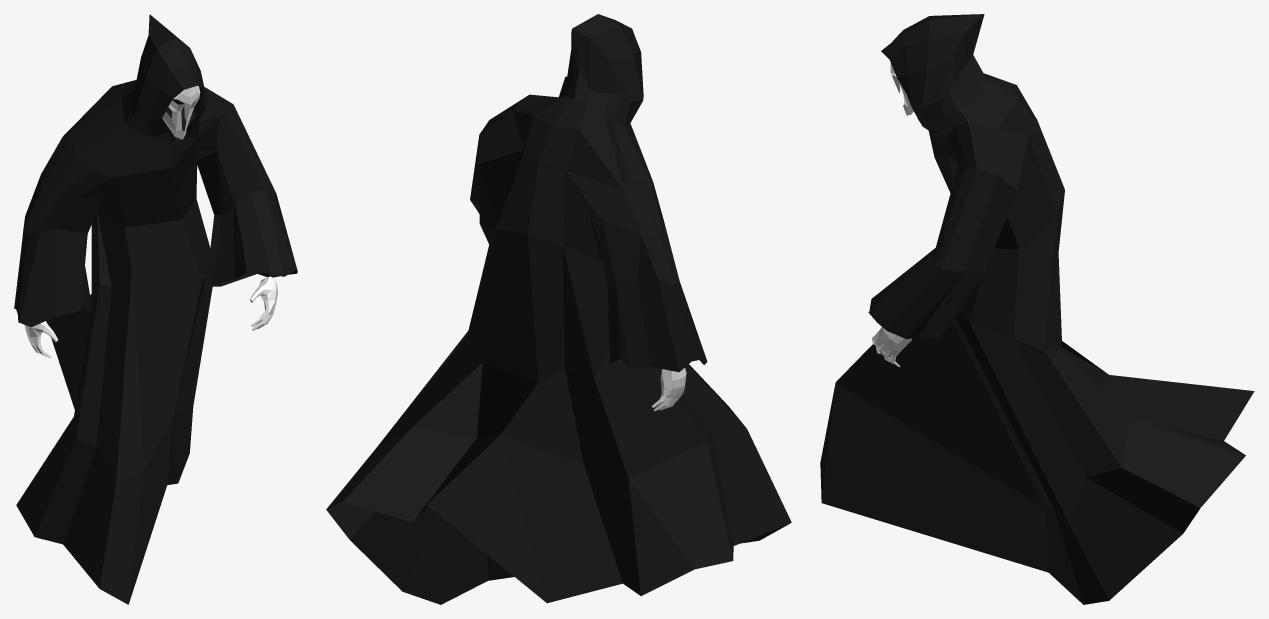
Rendered from ReaperWalk(36).obj.
3 views of the same model, side by side, from view 1: azimuth 30°, elevation 25°; view 2: azimuth 150°, elevation 25°; view 3: azimuth 270°, elevation 25° (orthographic). The views are drawn at different scales.
Parts seen in each view (by area): view 1: Plane003; view 2: Plane003; view 3: Plane003.
Boxes of the visible parts, left/top/right/bottom form: Plane003: left=14, top=14, right=297, bottom=604; Plane003: left=326, top=14, right=791, bottom=604; Plane003: left=820, top=14, right=1254, bottom=604.
Bounding box in the file's own units: 107 × 205 × 146.
